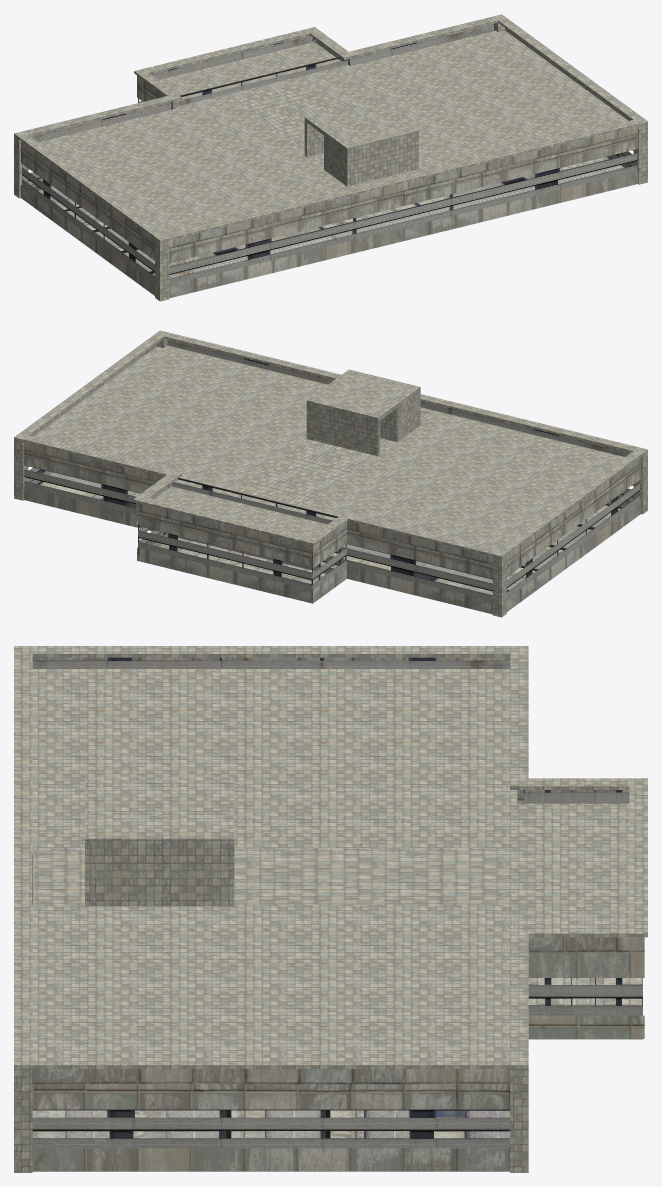
Rendered from BagSS05top_100.fbx.
3 views of the same model, one above another, from view 1: azimuth 30°, elevation 25°; view 2: azimuth 150°, elevation 25°; view 3: azimuth 270°, elevation 25° (orthographic). The views are drawn at different scales.
Visible parts, largest first — view 1: topRoof1000, topMain100, topBoxA100, topShed100, topBoxB100, topRoof100; view 2: topRoof1000, topMain100, topBoxA100, topShed100, topBoxB100, topRoof100; view 3: topRoof1000, topMain100, topBoxA100, topShed100, topBoxB100, topRoof100.
Part boxes in pixels (box(x1,y1,x2,y2)): topRoof1000: box(14, 14, 647, 301); topMain100: box(21, 23, 637, 298); topBoxA100: box(22, 24, 637, 284); topShed100: box(304, 100, 418, 186); topBoxB100: box(138, 36, 346, 109); topRoof100: box(54, 157, 609, 271); topRoof1000: box(14, 330, 647, 617); topMain100: box(24, 339, 640, 614); topBoxA100: box(24, 341, 639, 600); topShed100: box(306, 369, 420, 456); topBoxB100: box(138, 477, 346, 590); topRoof100: box(40, 482, 620, 595); topRoof1000: box(14, 646, 647, 1172); topMain100: box(32, 657, 644, 1171); topBoxA100: box(32, 657, 509, 1171); topShed100: box(85, 777, 234, 906); topBoxB100: box(524, 790, 642, 1039); topRoof100: box(32, 978, 642, 1138).
Bounding box in the file's own units: 42.55 × 7.36 × 27.2.
